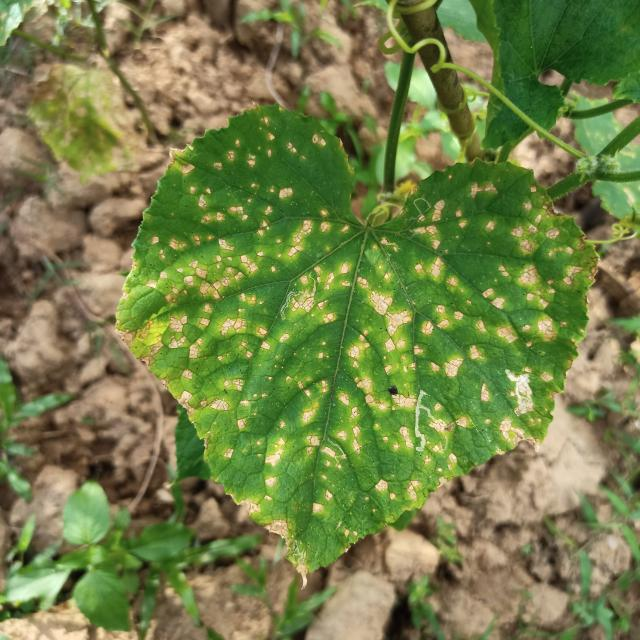disease_cucumber: (132, 123, 571, 535)
